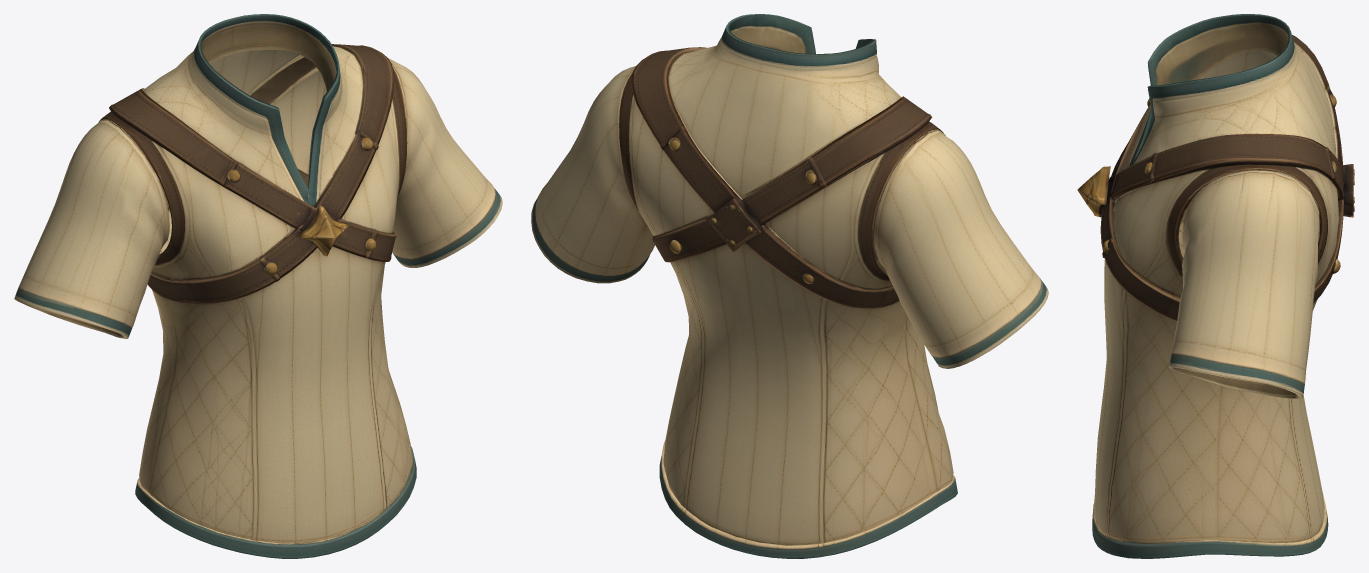
File: warden-tunic-tripo.glb
3 renders of one model, left to right at view 1: azimuth 30°, elevation 25°; view 2: azimuth 150°, elevation 25°; view 3: azimuth 270°, elevation 25°, orthographic. The views are drawn at different scales.
Visible parts, largest first — view 1: tripo_node_a0803dd2-68ba-482a-9041-648736b63c23; view 2: tripo_node_a0803dd2-68ba-482a-9041-648736b63c23; view 3: tripo_node_a0803dd2-68ba-482a-9041-648736b63c23.
Boxes of the visible parts, x1,y1,x2,y2 form: tripo_node_a0803dd2-68ba-482a-9041-648736b63c23: (14,14,502,558); tripo_node_a0803dd2-68ba-482a-9041-648736b63c23: (531,14,1048,558); tripo_node_a0803dd2-68ba-482a-9041-648736b63c23: (1077,14,1354,558).
Size of the model in its own units: 0.9995 by 0.9565 by 0.4878.
Materials: 1 (1 with a texture image).
